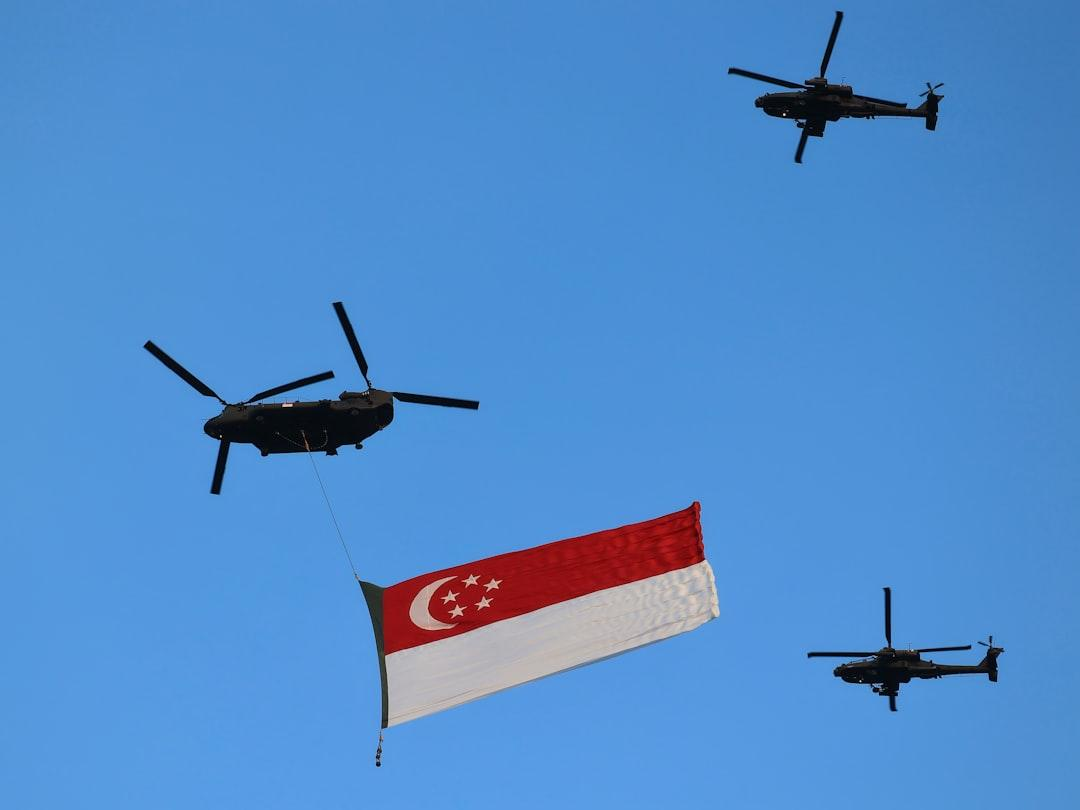Singapore: (367, 502, 718, 740)
